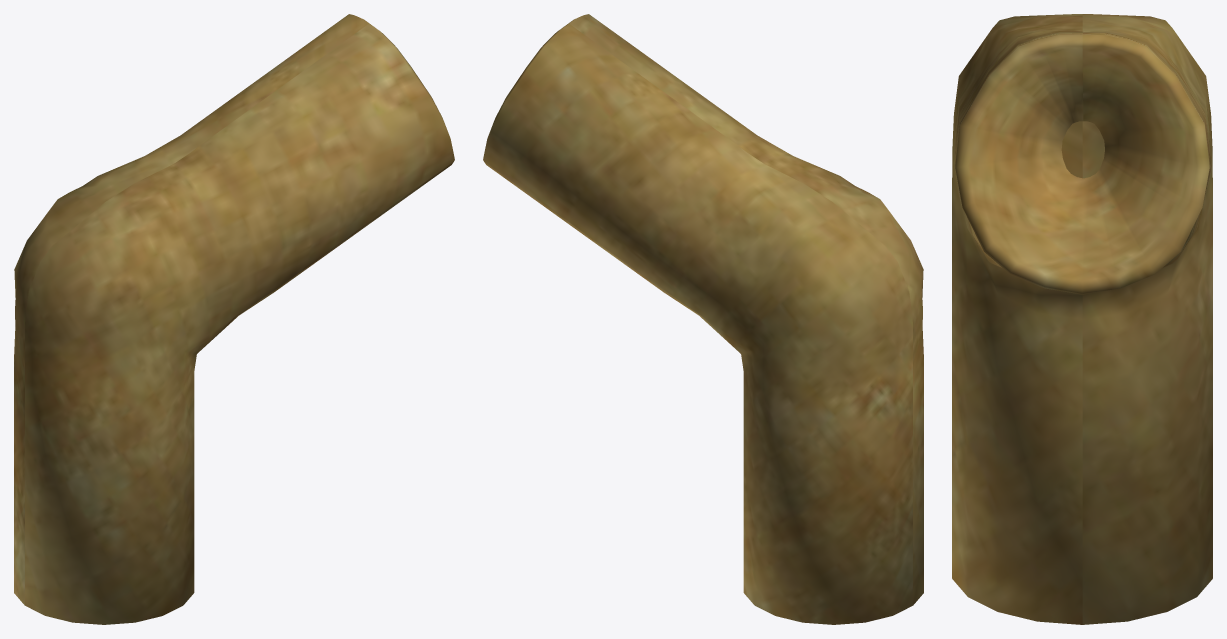
Rendered from Pipe06-model.fbx.
3 renders of one model, left to right at view 1: azimuth 30°, elevation 25°; view 2: azimuth 150°, elevation 25°; view 3: azimuth 270°, elevation 25°, orthographic. The views are drawn at different scales.
Visible parts, largest first — view 1: elbow_up; view 2: elbow_up; view 3: elbow_up.
Boxes of the visible parts, box(x1,y1,x2,y2) form: elbow_up: box(14, 14, 454, 624); elbow_up: box(483, 14, 923, 624); elbow_up: box(952, 14, 1212, 624).
Size of the model in its own units: 9.84 by 11.6 by 3.77.
1 material, 1 textured.
